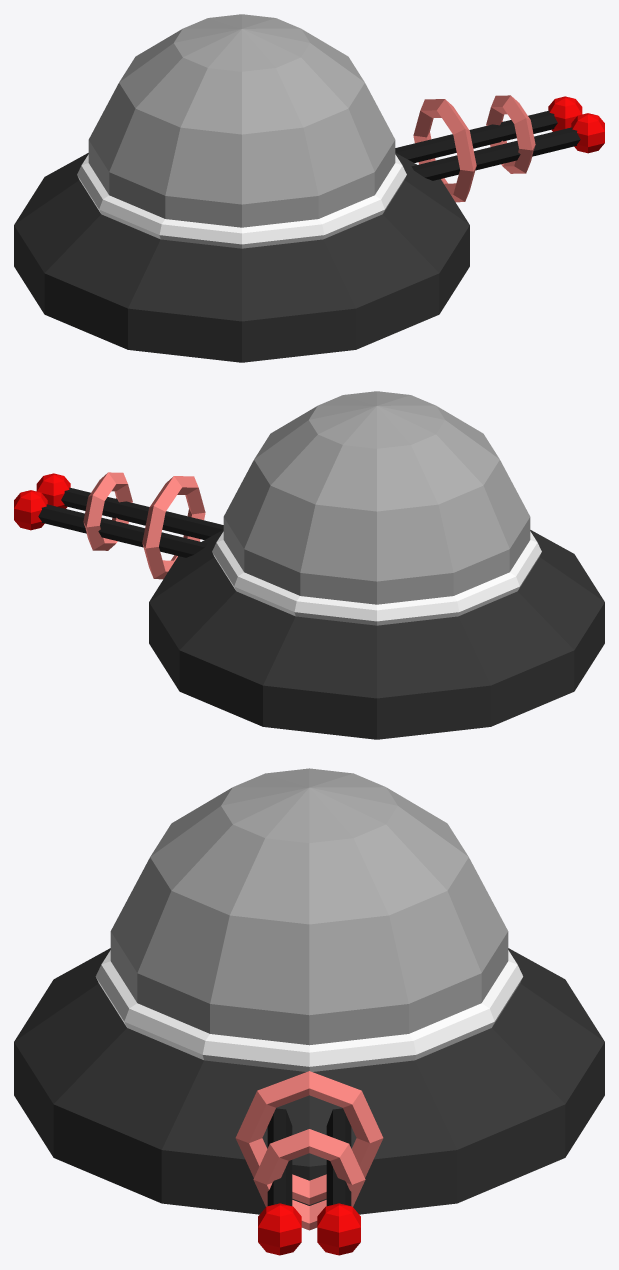
Rendered from alien_ship3.fbx.
The picture shows the model from 3 angles, top to bottom: view 1: azimuth 30°, elevation 25°; view 2: azimuth 150°, elevation 25°; view 3: azimuth 270°, elevation 25°; orthographic projection. The views are drawn at different scales.
Parts seen in each view (by area): view 1: merge4; view 2: merge4; view 3: merge4.
Boxes of the visible parts, x1,y1,x2,y2 form: merge4: (14,14,604,362); merge4: (14,391,604,739); merge4: (14,768,604,1255).
Size of the model in its own units: 2.78 by 1.15 by 2.
